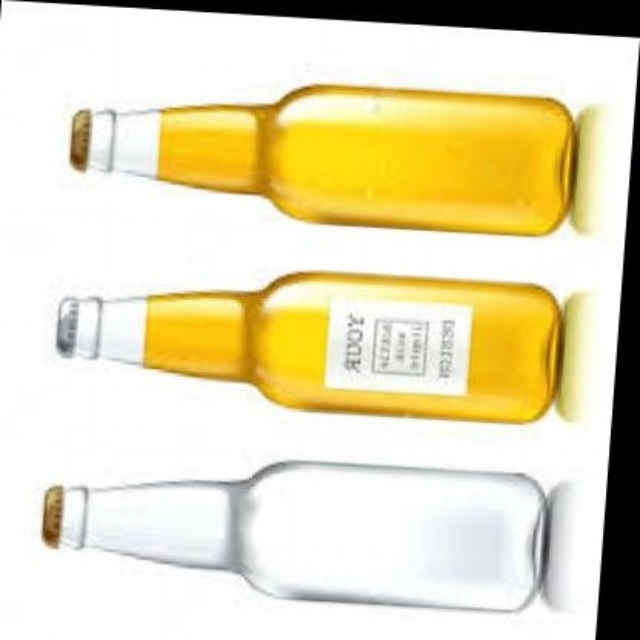trash: (57, 272, 562, 422), (71, 85, 574, 234), (42, 462, 546, 609)
